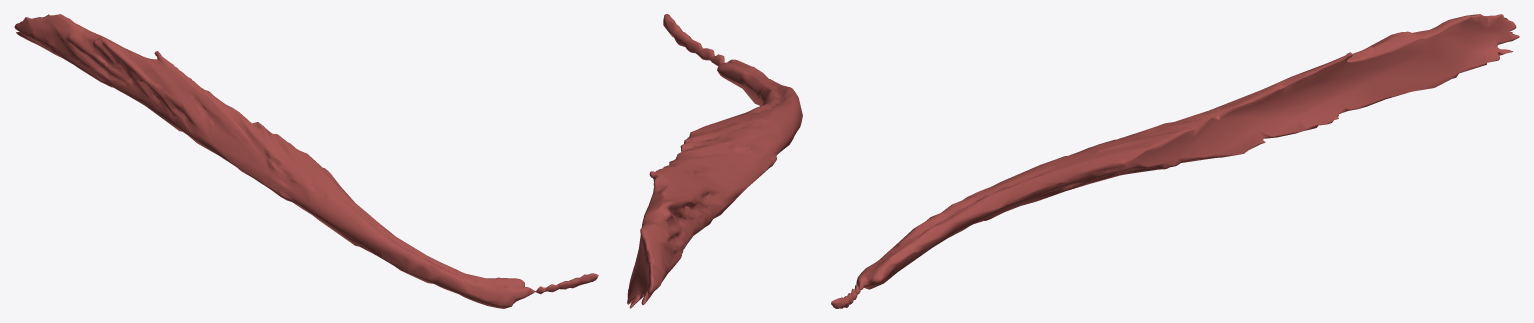
Rendered from FMA37742.glb.
The picture shows the model from 3 angles, left to right: view 1: azimuth 30°, elevation 25°; view 2: azimuth 150°, elevation 25°; view 3: azimuth 270°, elevation 25°; orthographic projection. The views are drawn at different scales.
Visible parts, largest first — view 1: FMA37742; view 2: FMA37742; view 3: FMA37742.
Part boxes in pixels (<box>): FMA37742: <box>14,14,598,308</box>; FMA37742: <box>627,14,802,308</box>; FMA37742: <box>831,14,1519,308</box>.
Size of the model in its own units: 0.0289 by 0.0142 by 0.0521.
